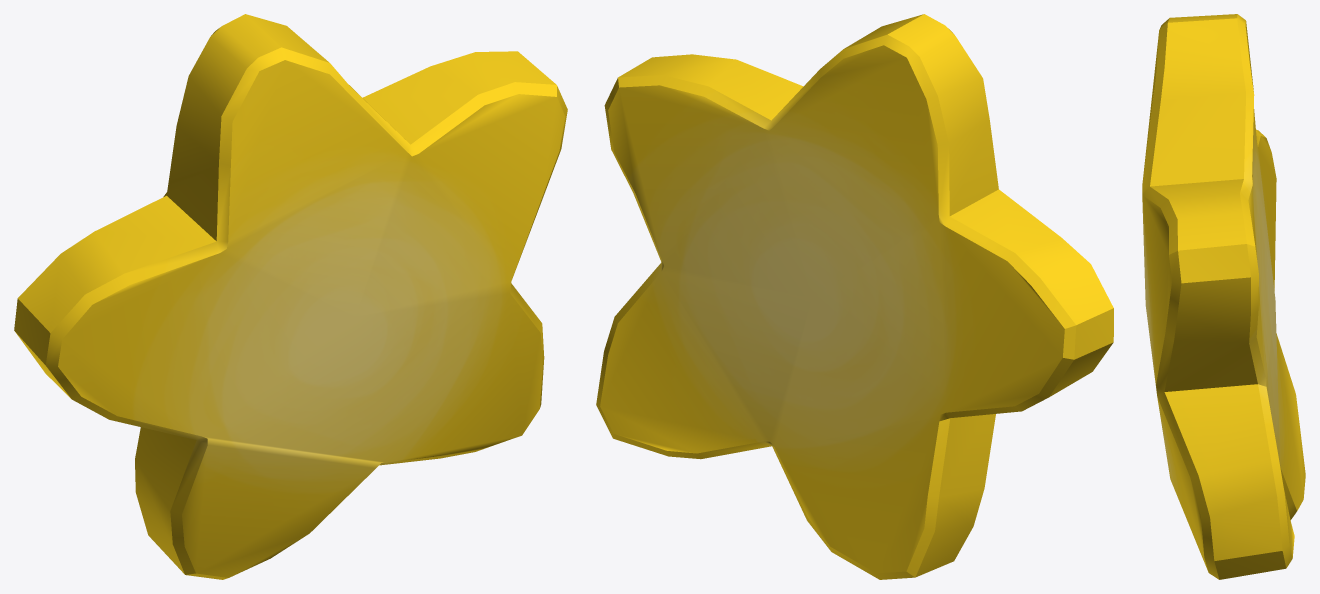
File: HappinessCropSeed.FBX
3 views of the same model, side by side, from view 1: azimuth 30°, elevation 25°; view 2: azimuth 150°, elevation 25°; view 3: azimuth 270°, elevation 25° (orthographic). The views are drawn at different scales.
Parts seen in each view (by area): view 1: blüte; view 2: blüte; view 3: blüte.
Boxes of the visible parts, x1,y1,x2,y2 form: blüte: (14, 14, 567, 579); blüte: (596, 14, 1113, 579); blüte: (1142, 14, 1305, 579).
Bounding box in the file's own units: 0.6801 × 0.707 × 0.2045.
